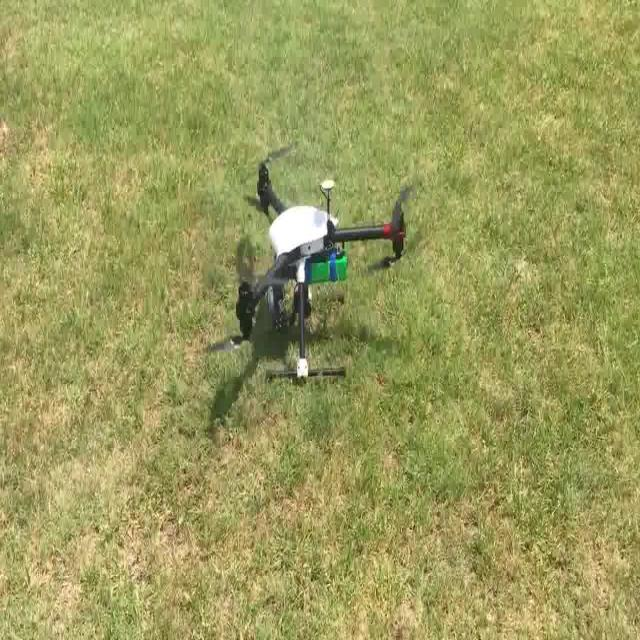drones: (202, 130, 429, 401)
